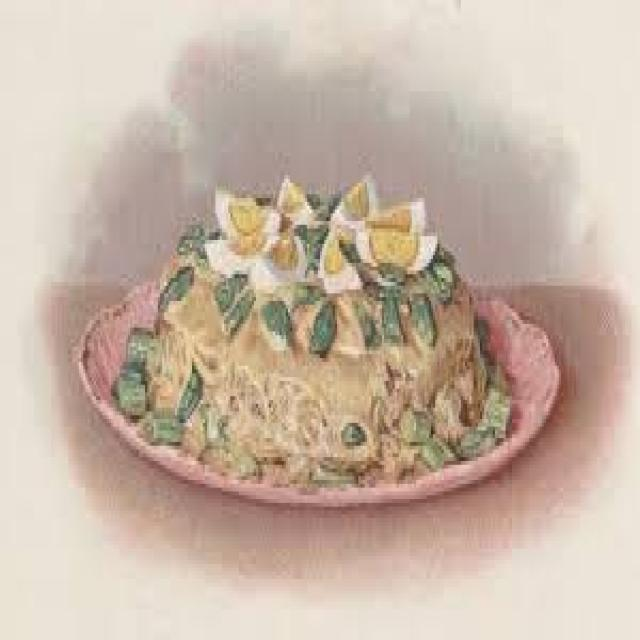food_waste: (113, 179, 506, 488)
